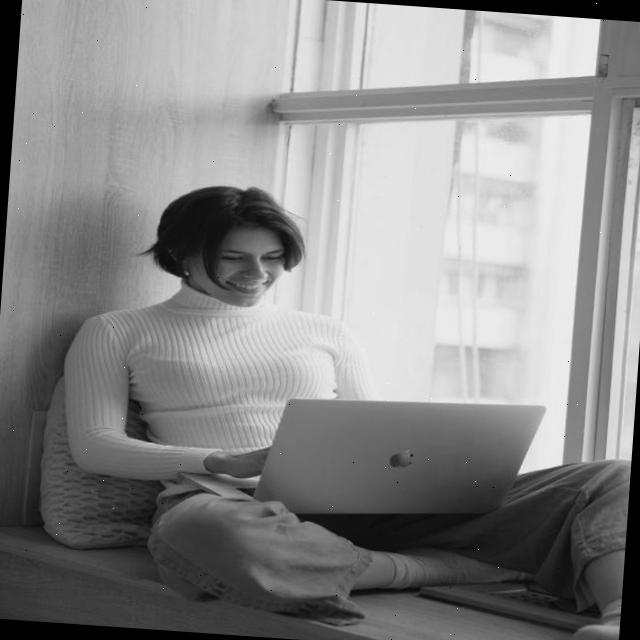Happiness: (202, 222, 290, 312)
